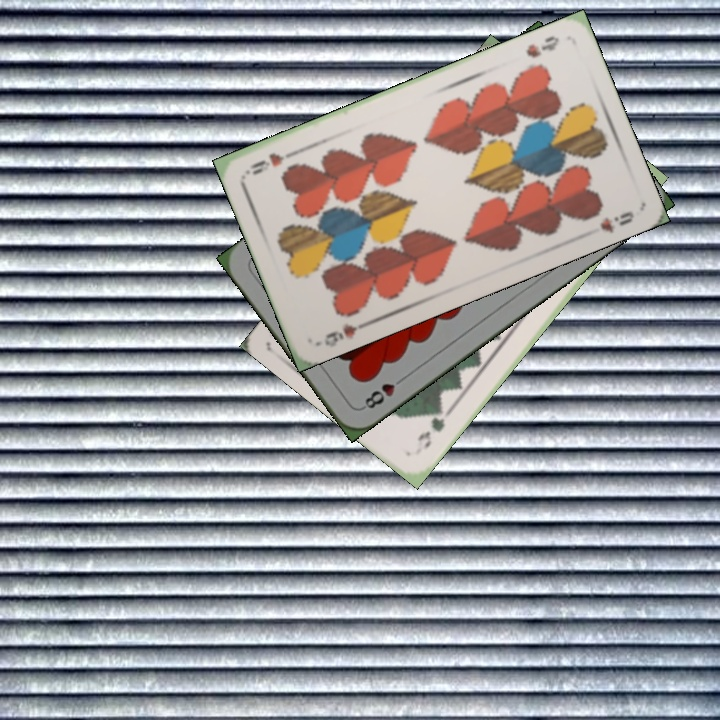G9: (413, 403, 454, 451)
H8: (358, 371, 409, 412)
H9: (313, 317, 370, 350), (522, 31, 562, 61)
